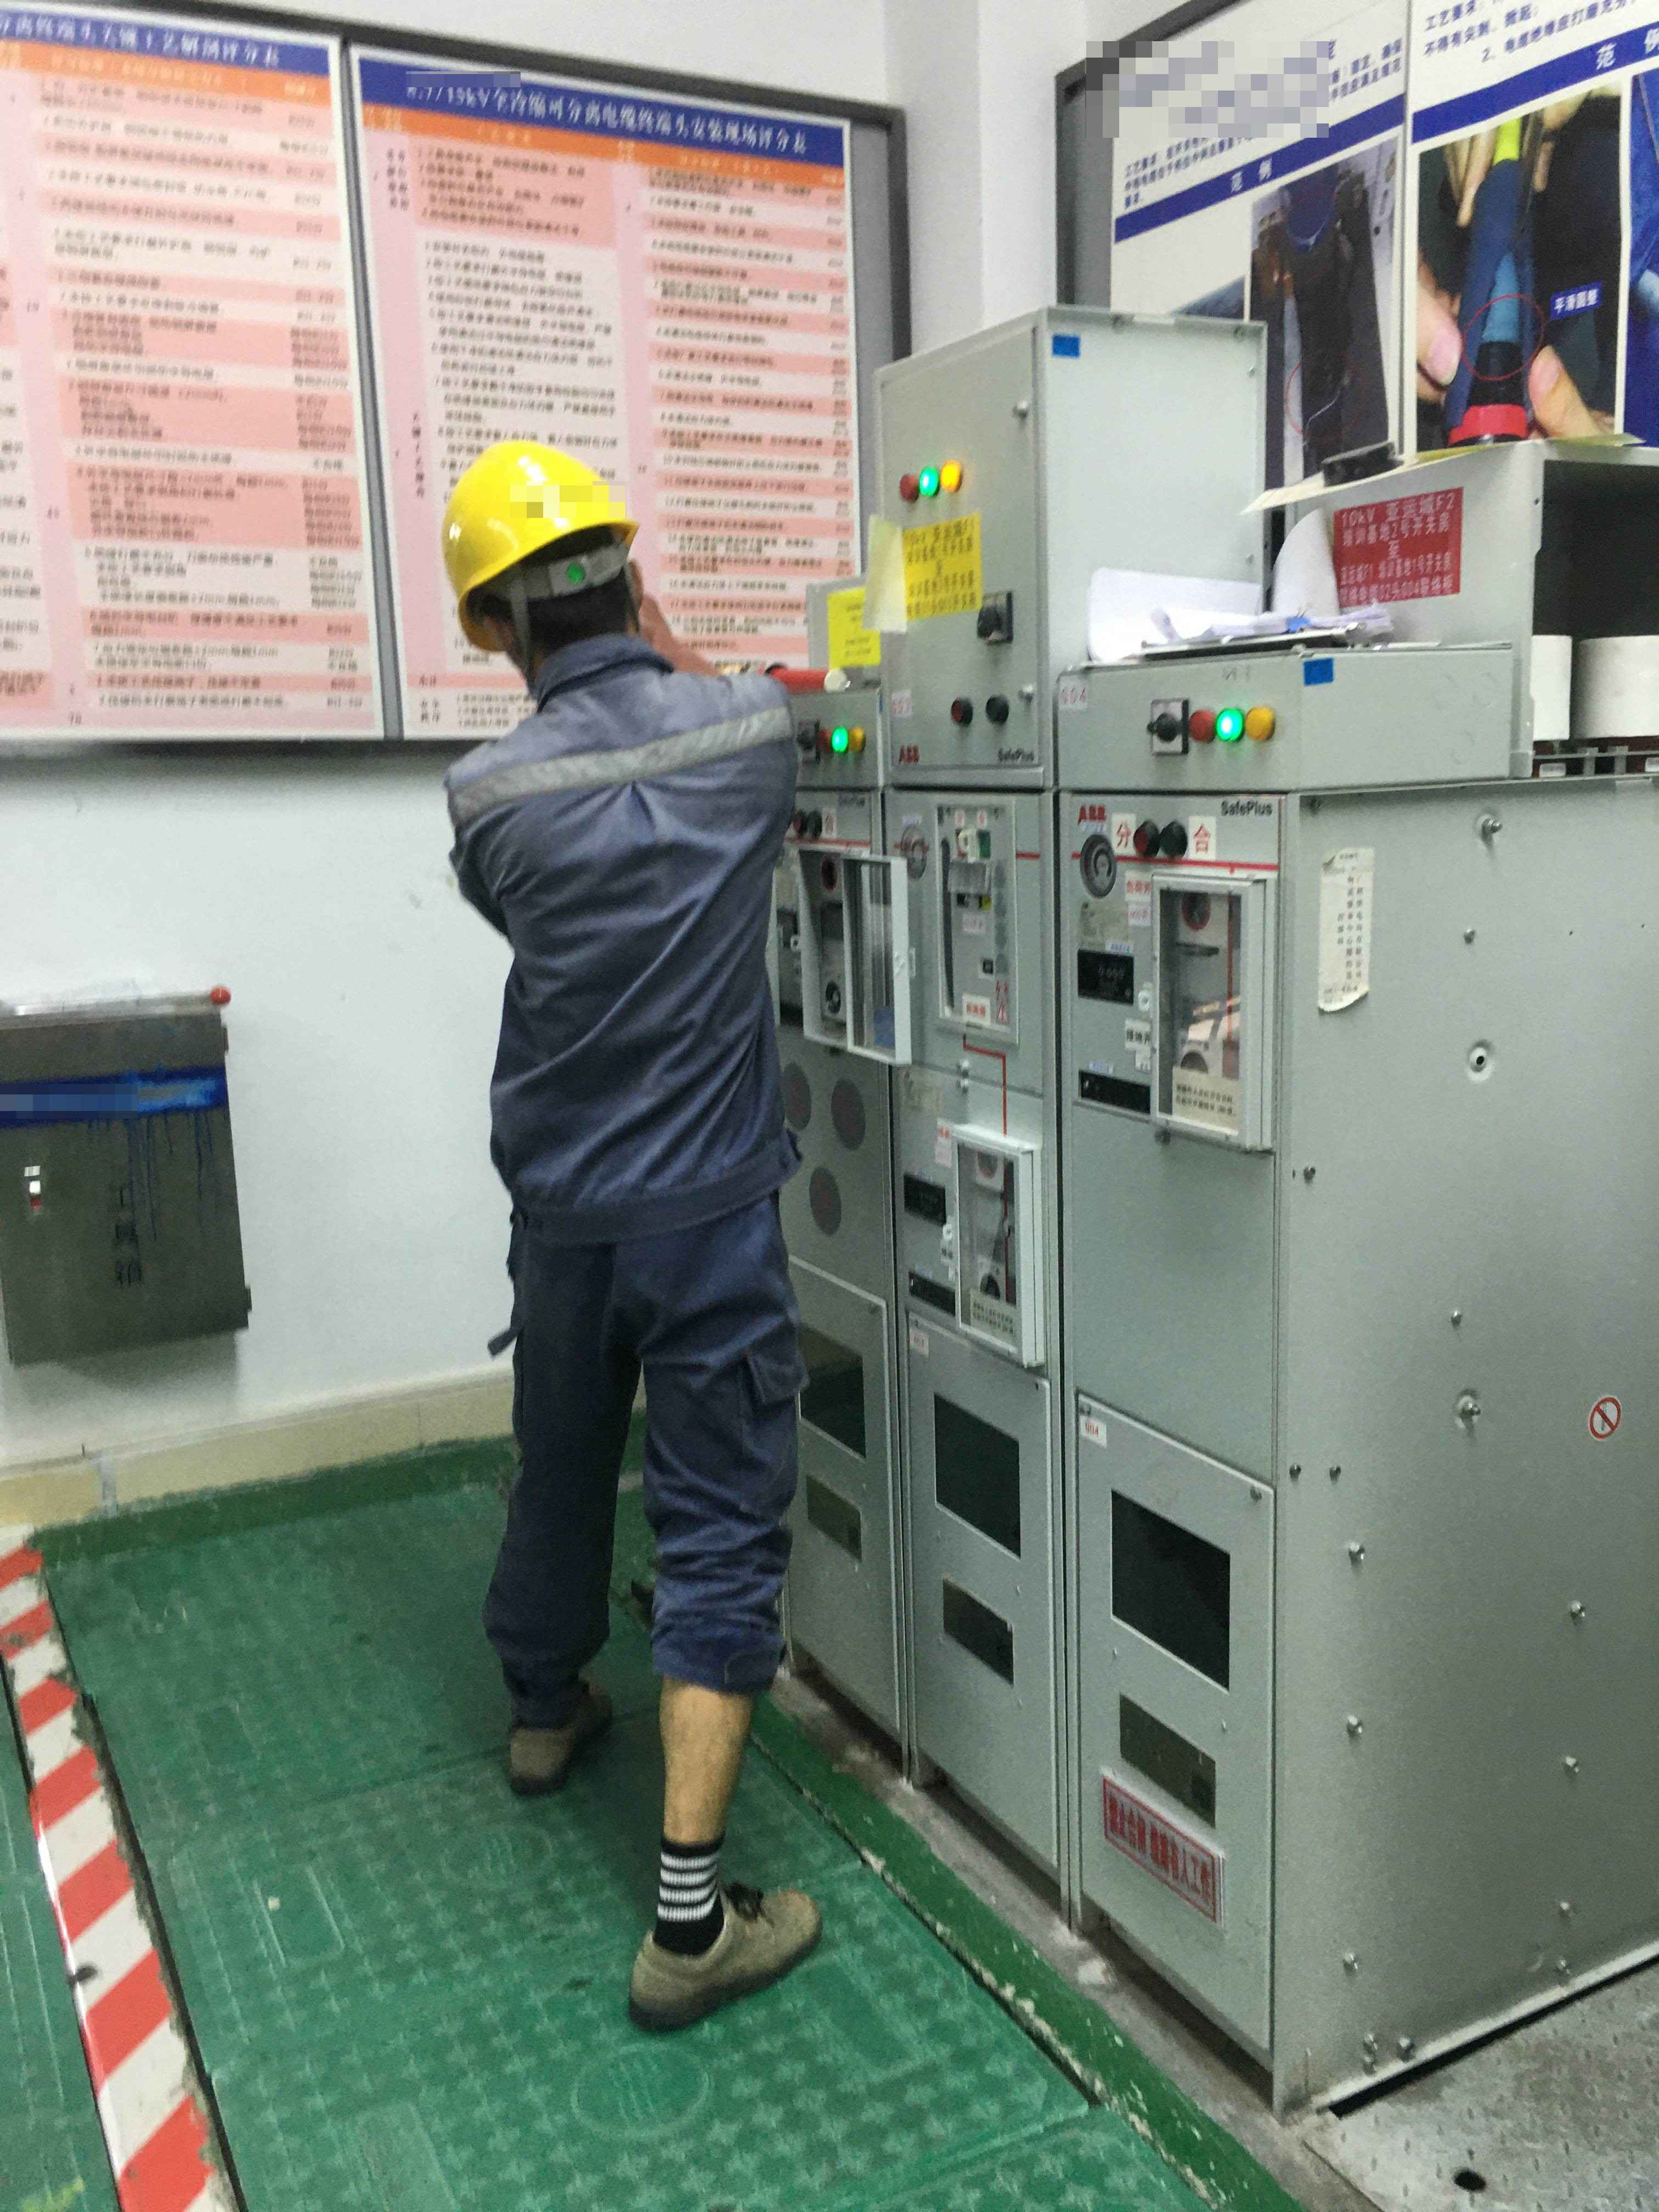downsuit: (488, 1223, 807, 1777)
upsuit: (441, 643, 803, 1207)
wrongbottom: (636, 1629, 781, 1928)
